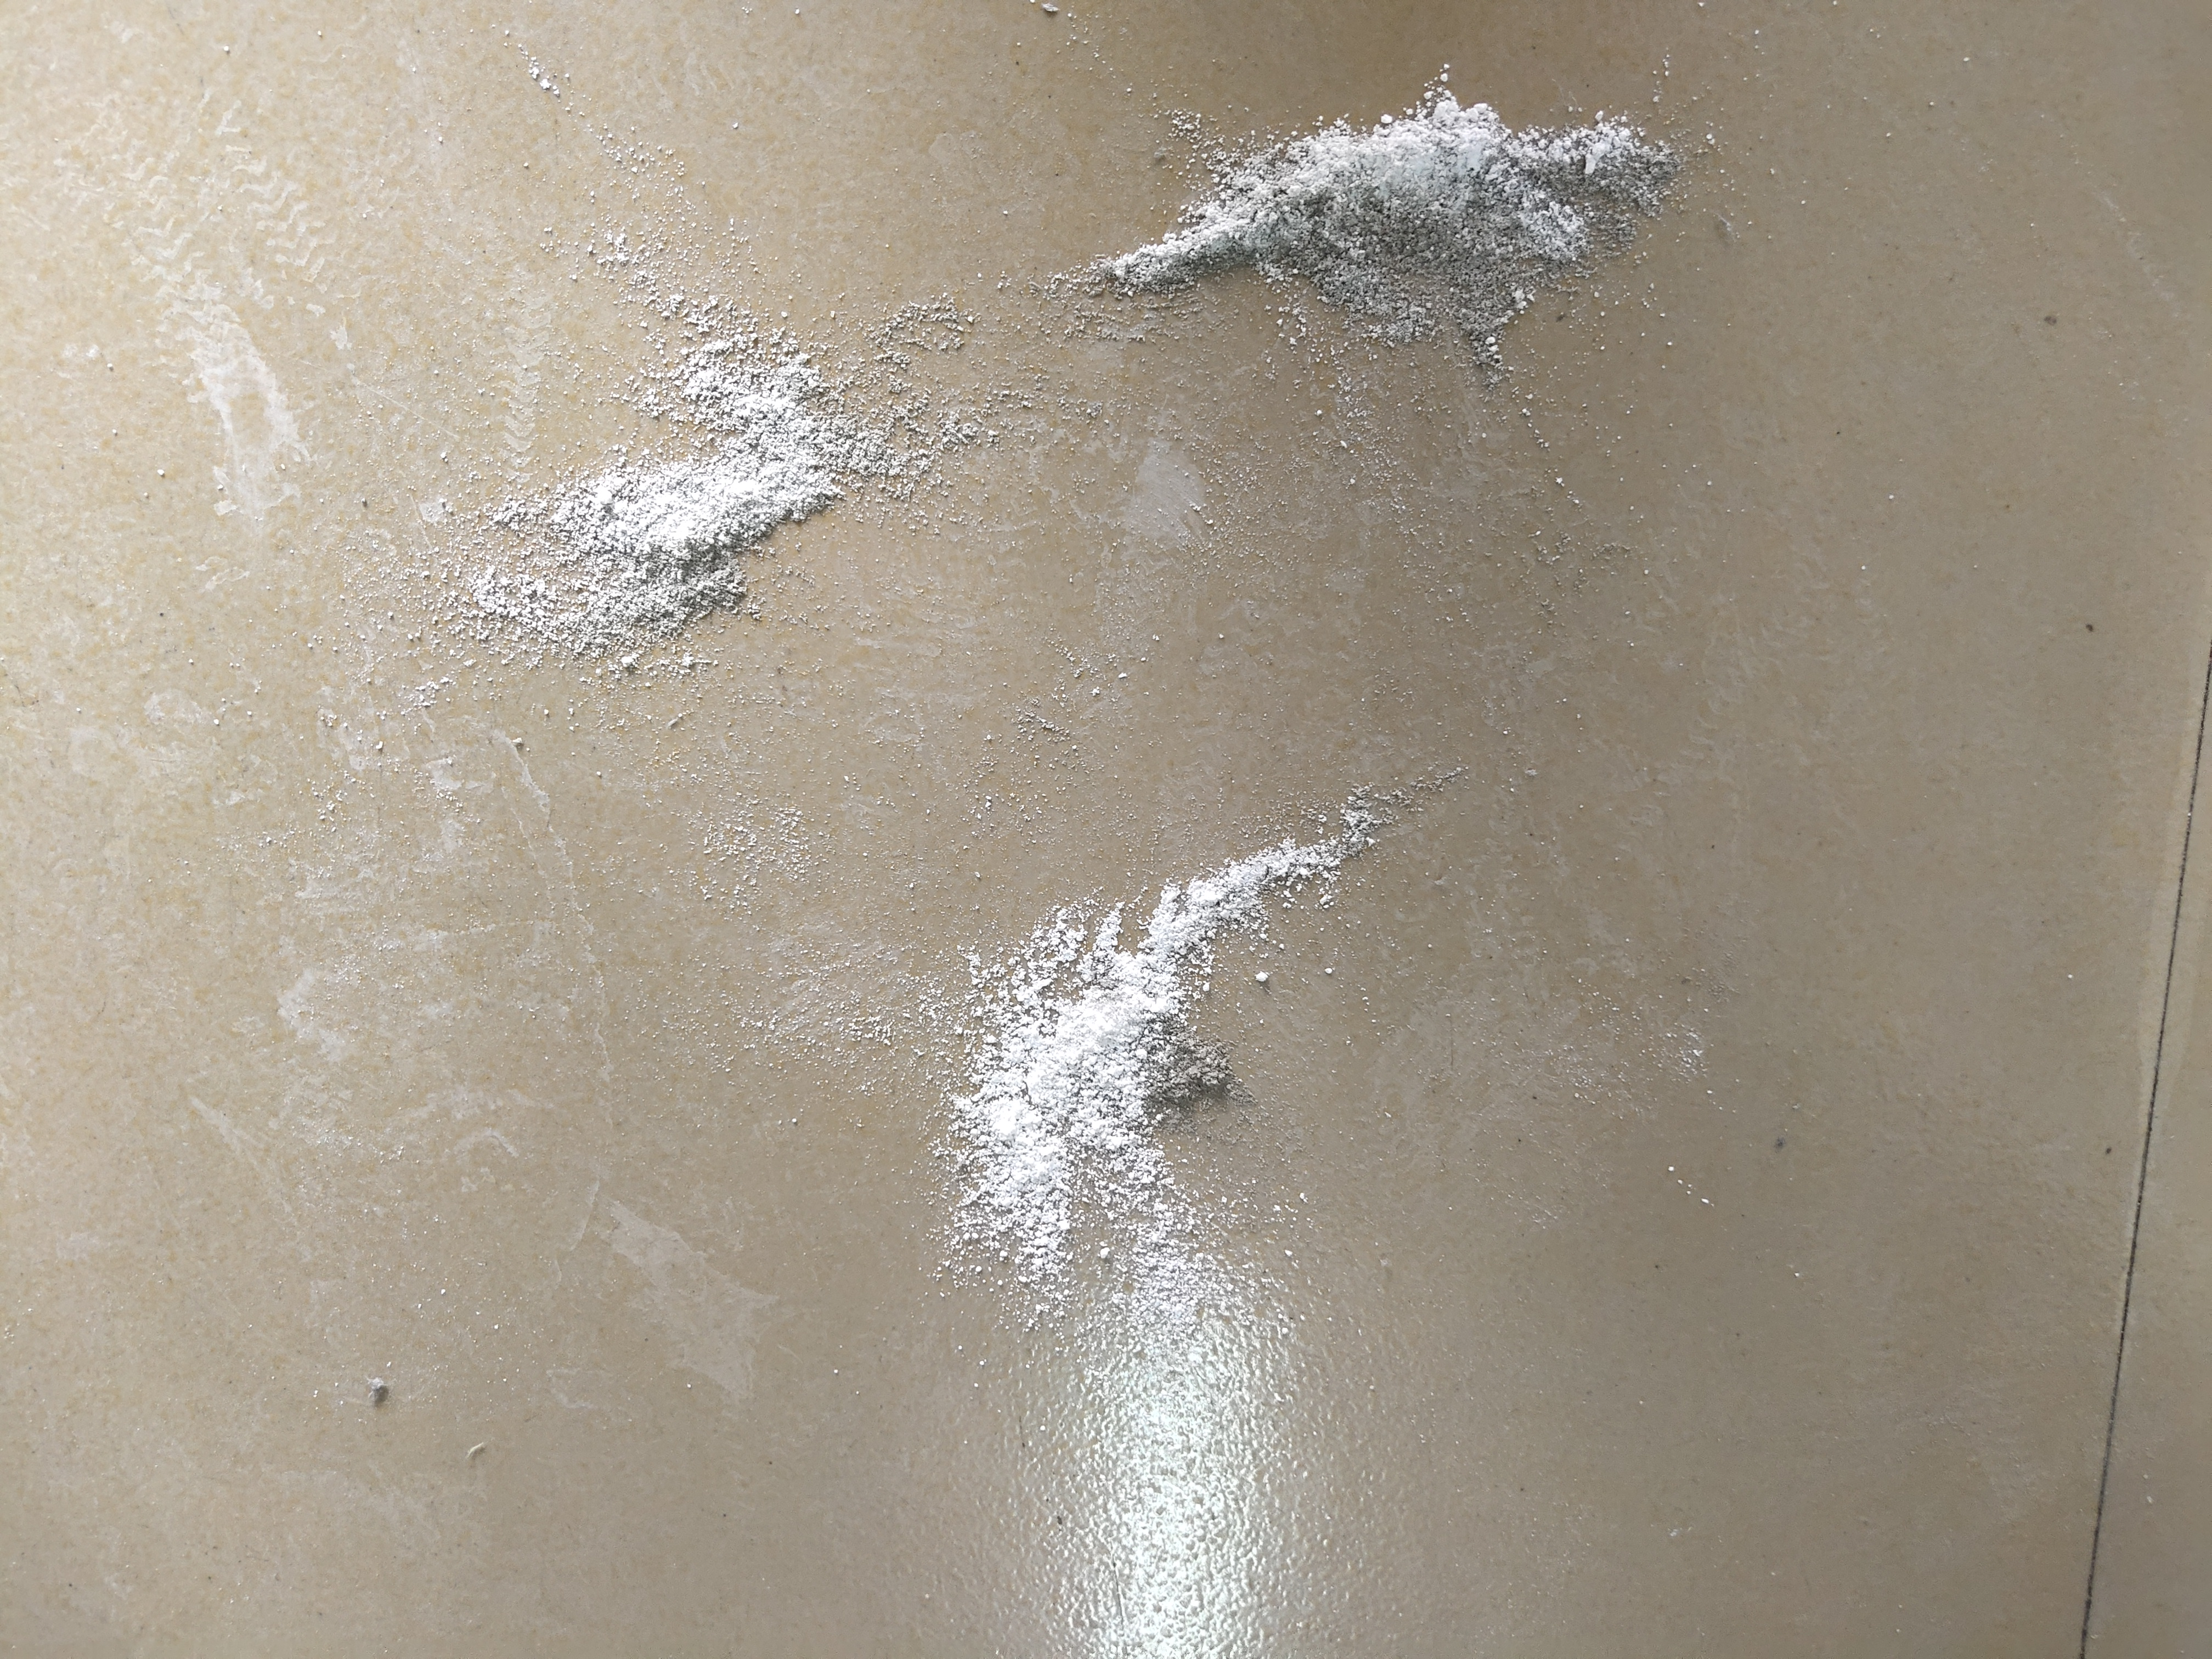ash pile: (418, 223, 1005, 674), (925, 784, 1409, 1298), (1040, 59, 1674, 390)
reflection: (1061, 1230, 1298, 1659)
